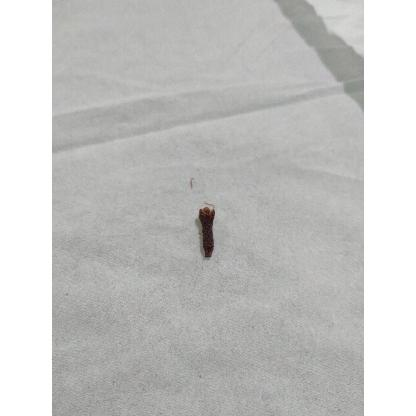buruk: (198, 206, 215, 260)
